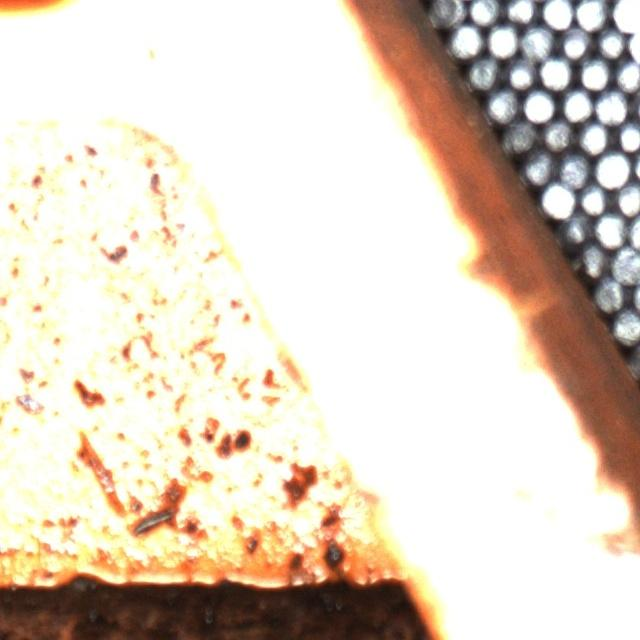tool: (594, 150, 630, 187), (557, 24, 592, 60), (540, 116, 575, 152), (558, 87, 594, 122), (448, 22, 483, 58), (592, 275, 627, 310), (503, 54, 538, 89), (486, 86, 521, 121), (521, 148, 556, 183), (539, 54, 573, 90), (486, 22, 520, 58), (520, 25, 554, 60), (594, 211, 628, 246), (593, 89, 628, 123), (521, 88, 556, 122), (576, 120, 611, 154), (541, 182, 575, 216), (558, 153, 592, 187), (467, 54, 501, 88), (502, 118, 536, 152), (595, 26, 629, 60), (577, 56, 611, 90), (576, 242, 610, 276), (578, 181, 611, 216), (611, 246, 640, 282), (560, 210, 592, 242), (612, 180, 640, 216), (611, 308, 640, 342), (574, 0, 608, 29), (612, 56, 640, 91), (541, 0, 575, 28), (467, 0, 502, 26), (614, 118, 640, 153), (504, 0, 540, 25), (428, 0, 464, 25), (613, 0, 640, 29)
